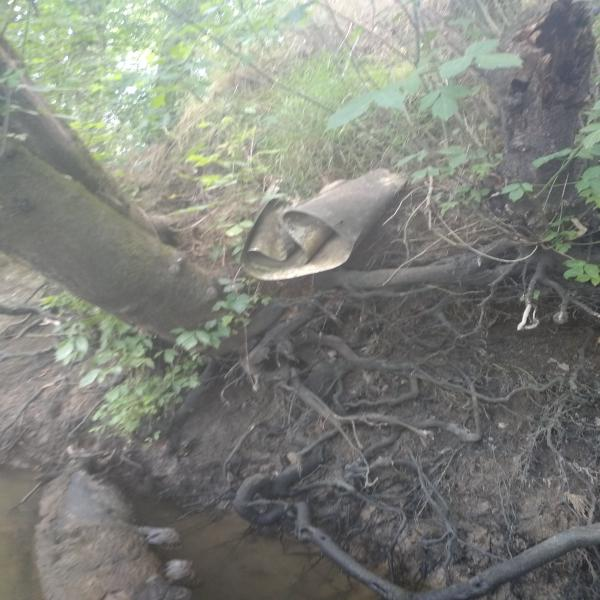others: (240, 168, 402, 283)
